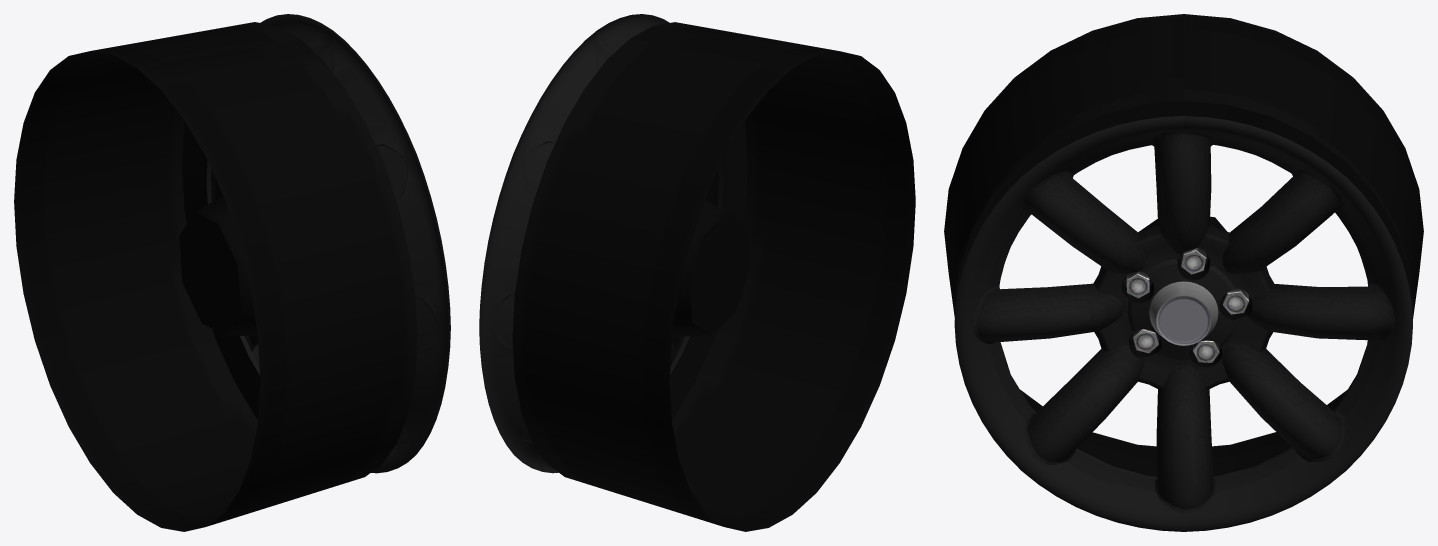
Rendered from wheel33.fbx.
3 views of the same model, side by side, from view 1: azimuth 30°, elevation 25°; view 2: azimuth 150°, elevation 25°; view 3: azimuth 270°, elevation 25° (orthographic). The views are drawn at different scales.
Visible parts, largest first — view 1: com_ml_wheel_wheel_inner_rim_, com_ml_wheel_wheel_rim_, wheel_rim; view 2: com_ml_wheel_wheel_inner_rim_, com_ml_wheel_wheel_rim_, wheel_rim; view 3: com_ml_wheel_wheel_rim_, com_ml_wheel_wheel_inner_rim_, wheel_rim, com_ml_wheel_wheel_chrome_rim_, com_ml_wheel_wheel_wheel_emblem_.
Boxes of the visible parts, x1,y1,x2,y2 form: com_ml_wheel_wheel_inner_rim_: [14, 22, 417, 531]; com_ml_wheel_wheel_rim_: [206, 14, 449, 473]; wheel_rim: [252, 14, 450, 467]; com_ml_wheel_wheel_inner_rim_: [512, 22, 915, 531]; com_ml_wheel_wheel_rim_: [480, 14, 723, 473]; wheel_rim: [479, 14, 677, 467]; com_ml_wheel_wheel_rim_: [959, 116, 1412, 514]; com_ml_wheel_wheel_inner_rim_: [944, 14, 1423, 479]; wheel_rim: [954, 116, 1412, 531]; com_ml_wheel_wheel_chrome_rim_: [1126, 248, 1248, 362]; com_ml_wheel_wheel_wheel_emblem_: [1160, 298, 1207, 341].
Size of the model in its own units: 0.228 by 0.492 by 0.492.
Materials: 1 (1 with a texture image).
